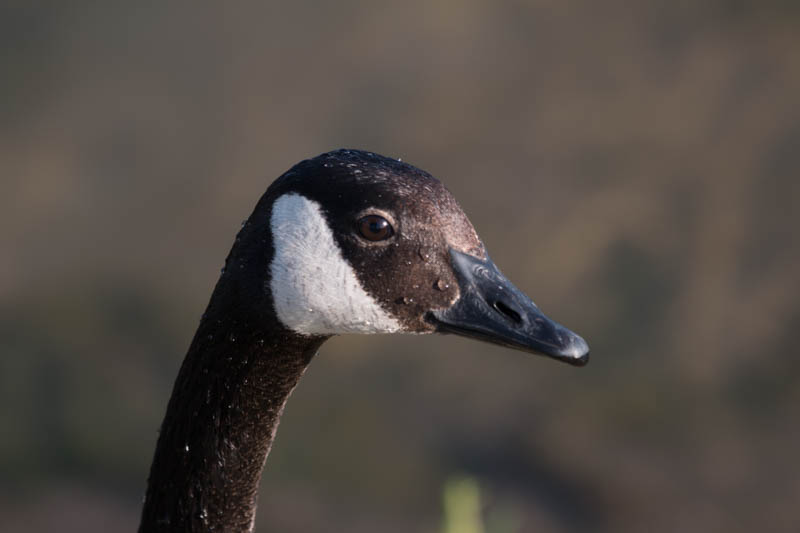goose-head: (226, 147, 593, 368)
